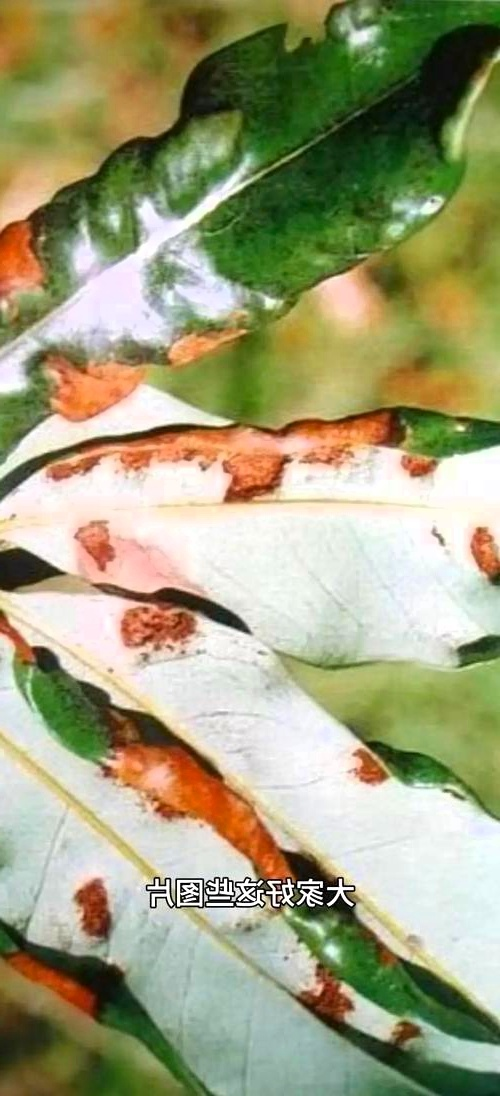Gall_Mite: (60, 361, 463, 562), (75, 641, 403, 829)
